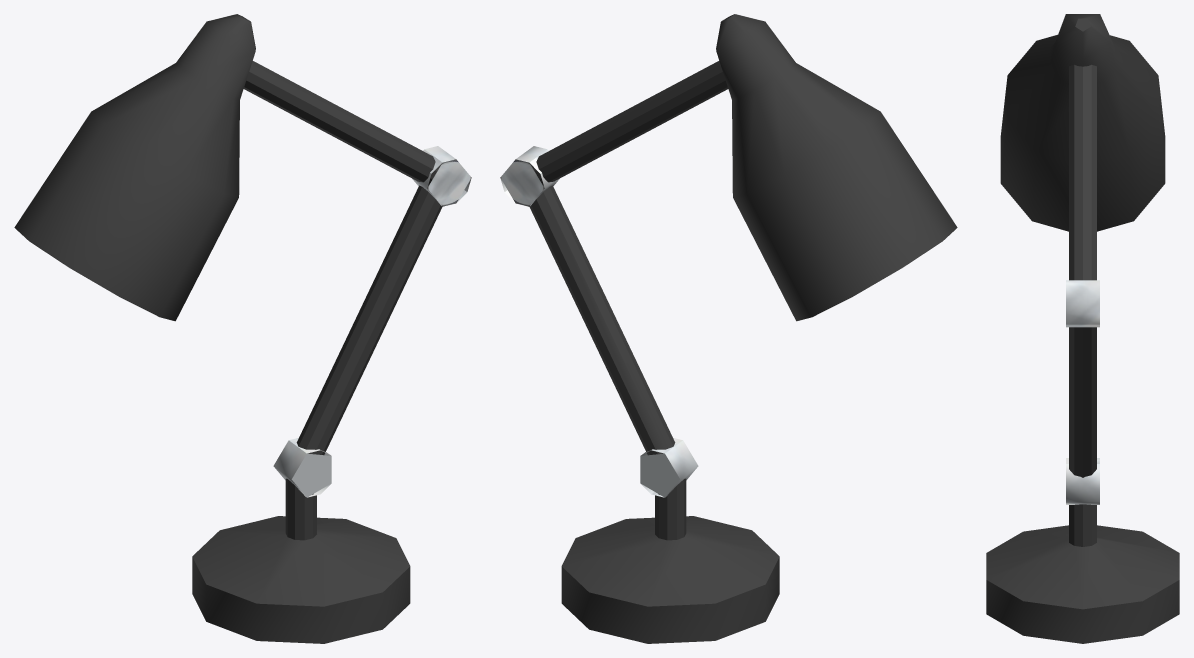
Rendered from Lamp_lod2.fbx.
3 renders of one model, left to right at view 1: azimuth 30°, elevation 25°; view 2: azimuth 150°, elevation 25°; view 3: azimuth 270°, elevation 25°, orthographic. The views are drawn at different scales.
Parts seen in each view (by area): view 1: polySurface8, polySurface4, polySurface7, polySurface6, polySurface5; view 2: polySurface8, polySurface4, polySurface7, polySurface6, polySurface5; view 3: polySurface4, polySurface8, polySurface7, polySurface5, polySurface6.
Boxes of the visible parts, <box> form: polySurface8: <box>14,14,255,321</box>; polySurface4: <box>192,185,442,643</box>; polySurface7: <box>243,61,441,185</box>; polySurface6: <box>273,438,331,497</box>; polySurface5: <box>412,146,471,206</box>; polySurface8: <box>716,14,957,321</box>; polySurface4: <box>529,185,779,643</box>; polySurface7: <box>530,61,728,185</box>; polySurface6: <box>640,438,698,497</box>; polySurface5: <box>500,146,559,206</box>; polySurface4: <box>986,327,1179,643</box>; polySurface8: <box>1000,14,1165,231</box>; polySurface7: <box>1069,64,1096,280</box>; polySurface5: <box>1066,280,1099,327</box>; polySurface6: <box>1066,458,1099,504</box>.
Bounding box in the file's own units: 2.7 × 3.56 × 1.13.
